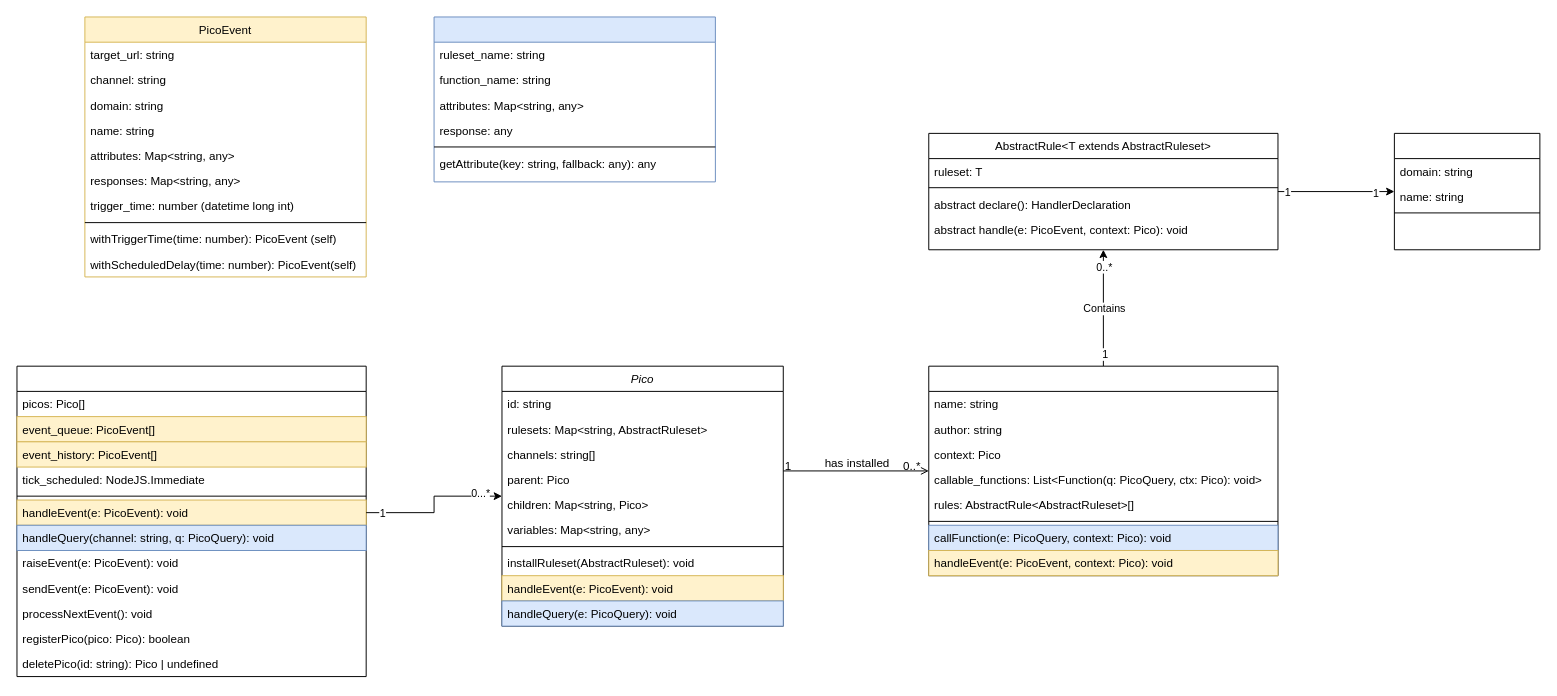
Some shapes in this 1557 by 696 pixel diagram are drawn without their labels. Here are the shapes that lost their labels. From the top down, the box of each, then its label:
(433, 16, 715, 182): PicoQuery
(1393, 132, 1540, 250): HandlerDeclaration
(928, 365, 1278, 576): AbstractRuleset
(16, 365, 366, 677): PicoEngine (singleton)
